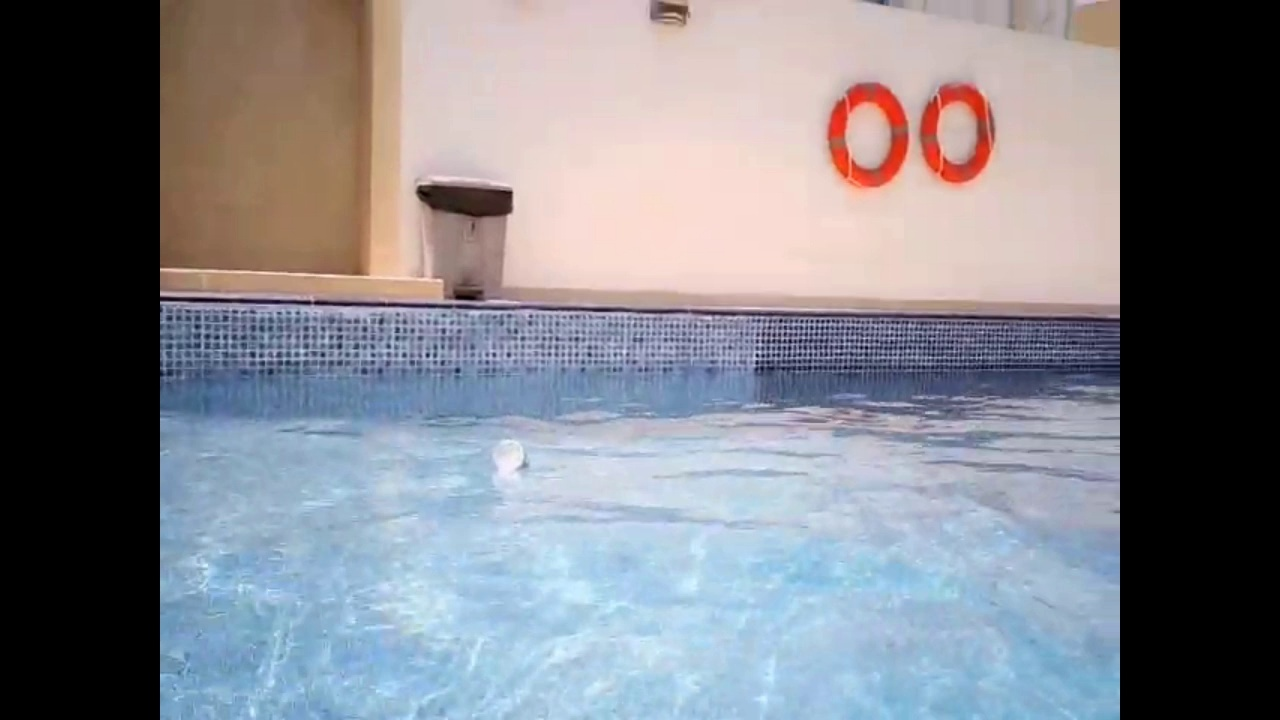debris: (490, 434, 534, 476)
